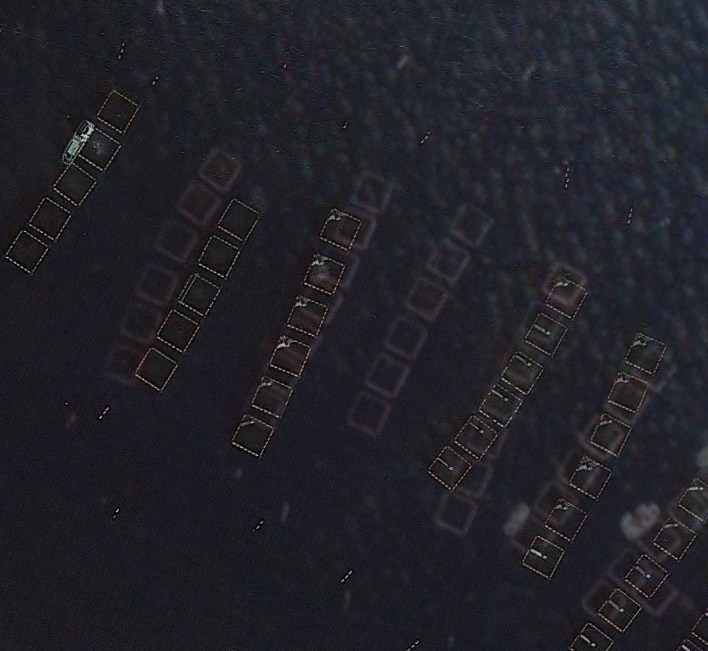ship: (58, 113, 102, 168)
square: (651, 506, 701, 564), (231, 409, 282, 462), (544, 267, 594, 319), (480, 385, 529, 436), (541, 494, 590, 545), (517, 534, 569, 581), (620, 548, 668, 598), (5, 228, 53, 277), (194, 232, 244, 279), (625, 326, 672, 376), (94, 85, 143, 132), (218, 193, 265, 242), (570, 452, 615, 503), (306, 249, 354, 296), (592, 585, 640, 632), (268, 335, 316, 381), (385, 315, 431, 363), (345, 385, 392, 431), (523, 307, 568, 355), (136, 344, 182, 390), (54, 159, 99, 206), (78, 124, 123, 170), (322, 206, 367, 252), (501, 348, 545, 395), (283, 295, 331, 338), (155, 308, 201, 352), (451, 197, 494, 244), (459, 412, 500, 461), (27, 195, 69, 241), (594, 410, 633, 459), (252, 374, 294, 419), (370, 350, 411, 396), (611, 367, 652, 413), (180, 274, 221, 319), (429, 236, 470, 281), (407, 275, 448, 319), (426, 445, 466, 490)
